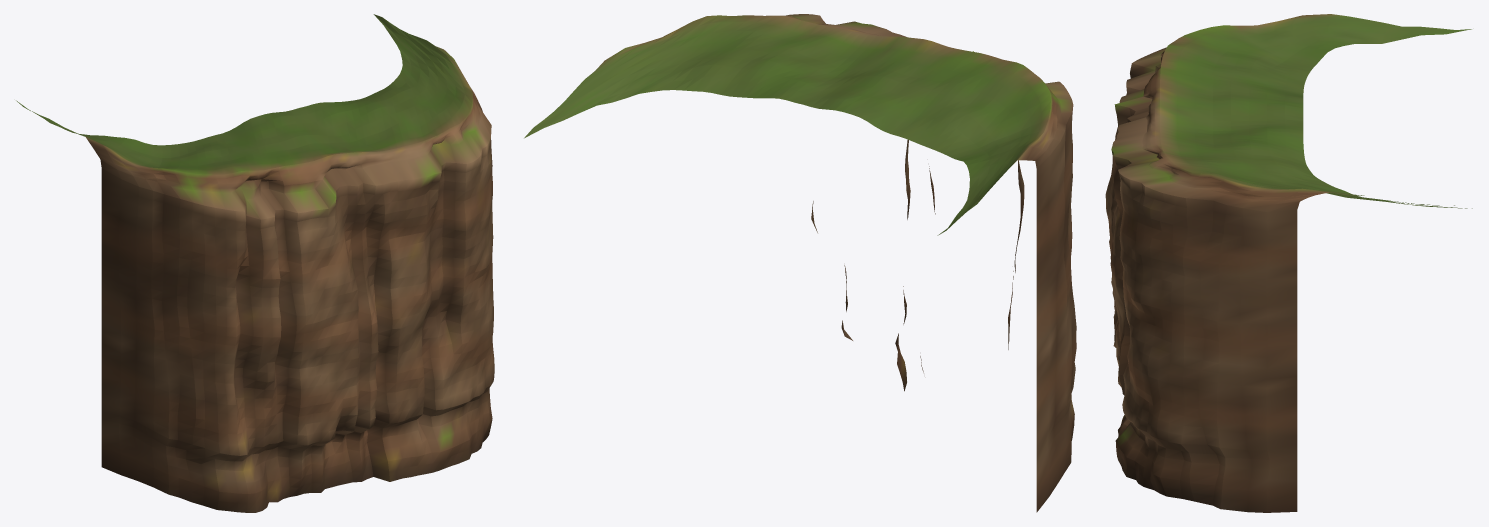
Rendered from cliff-face-a.lod0.glb.
3 views of the same model, side by side, from view 1: azimuth 30°, elevation 25°; view 2: azimuth 150°, elevation 25°; view 3: azimuth 270°, elevation 25° (orthographic). The views are drawn at different scales.
Bounding box in the file's own units: 7.36 × 6.38 × 6.46.
